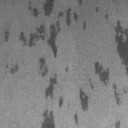red iron: (4, 0, 86, 128), (74, 62, 128, 126), (96, 7, 128, 66), (10, 64, 18, 74), (115, 120, 120, 128), (65, 66, 68, 72)
